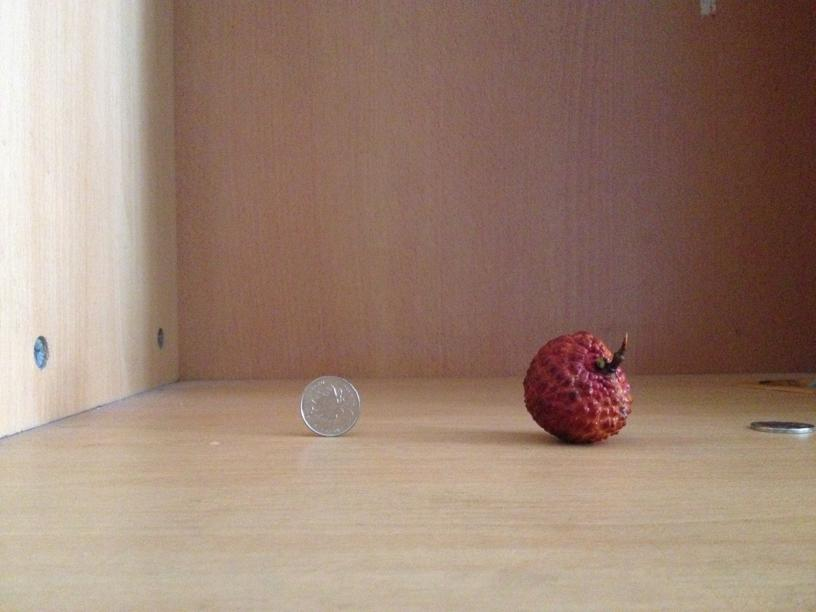coin: (298, 372, 360, 435)
litchi: (523, 328, 632, 442)
